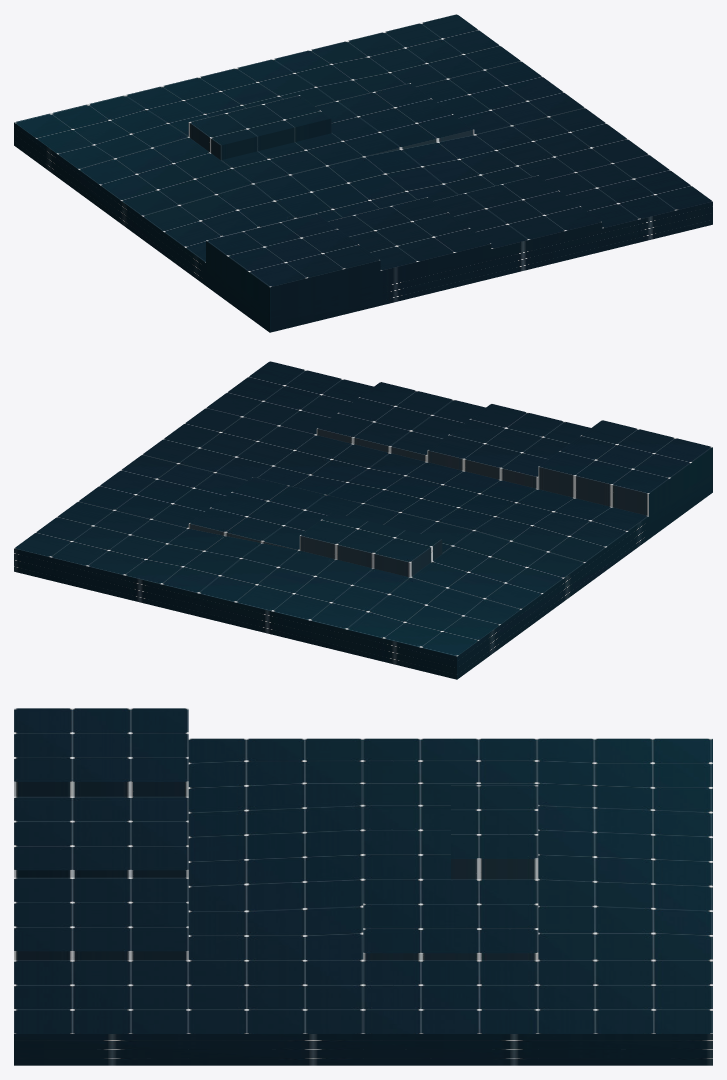
Rendered from ground.gltf.
The picture shows the model from 3 angles, top to bottom: view 1: azimuth 30°, elevation 25°; view 2: azimuth 150°, elevation 25°; view 3: azimuth 270°, elevation 25°; orthographic projection. The views are drawn at different scales.
Parts seen in each view (by area): view 1: Cube; view 2: Cube; view 3: Cube.
Boxes of the visible parts, x1,y1,x2,y2 form: Cube: (14, 14, 712, 332); Cube: (14, 361, 712, 679); Cube: (14, 708, 712, 1065).
Size of the model in its own units: 40 by 3.92 by 40.
1 material, 1 textured.
